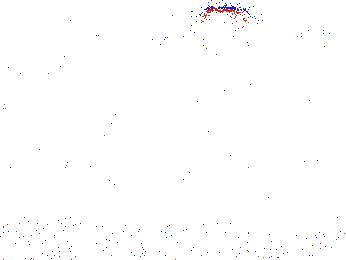moon jellyfish: (208, 44, 287, 128), (99, 84, 169, 166), (106, 1, 189, 45), (275, 26, 346, 76), (196, 7, 257, 59), (55, 1, 144, 25)
